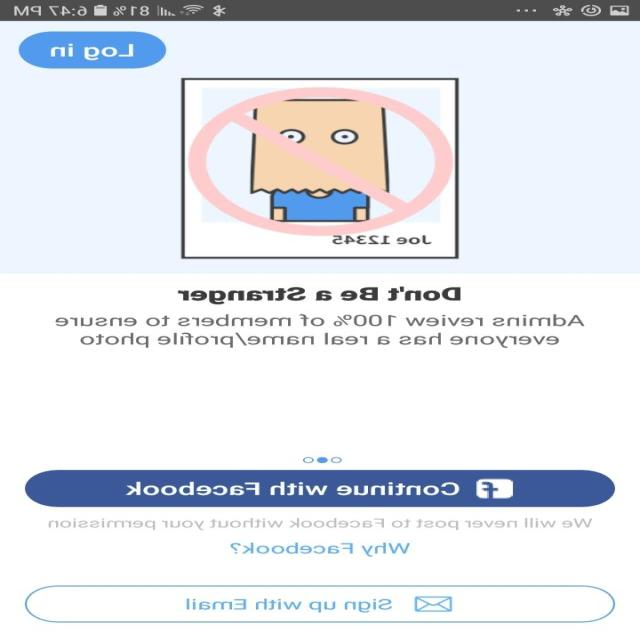Image: (182, 77, 460, 259)
Text: (55, 313, 586, 348), (49, 518, 593, 530), (178, 286, 462, 304), (230, 542, 410, 556)
TextButton: (25, 469, 615, 507), (25, 585, 615, 622), (18, 32, 168, 69)
